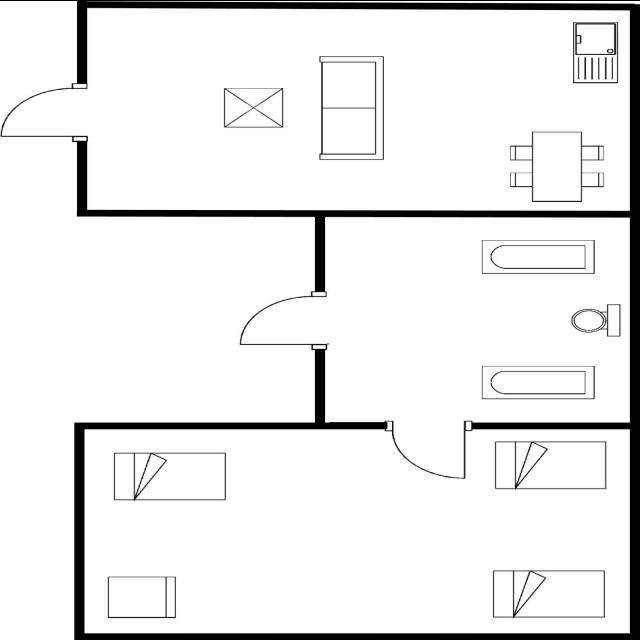bed: (488, 565, 610, 621), (108, 449, 232, 503), (490, 438, 610, 492)
coffee_table: (218, 86, 286, 130)
dining_table: (504, 128, 606, 204)
large_sink: (566, 302, 624, 338)
large_sofa: (314, 54, 387, 162)
sink: (568, 19, 622, 86)
small_sofa: (102, 574, 178, 620)
tub: (476, 363, 598, 402), (477, 238, 599, 276)
